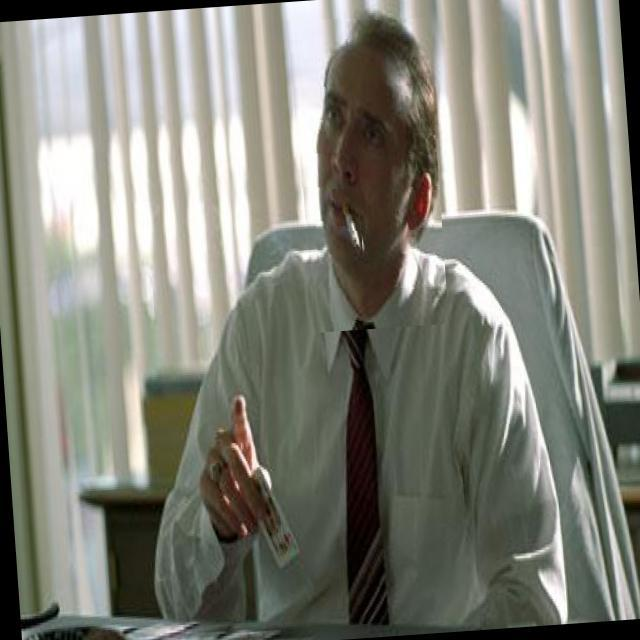cigarette: (332, 187, 364, 276)
